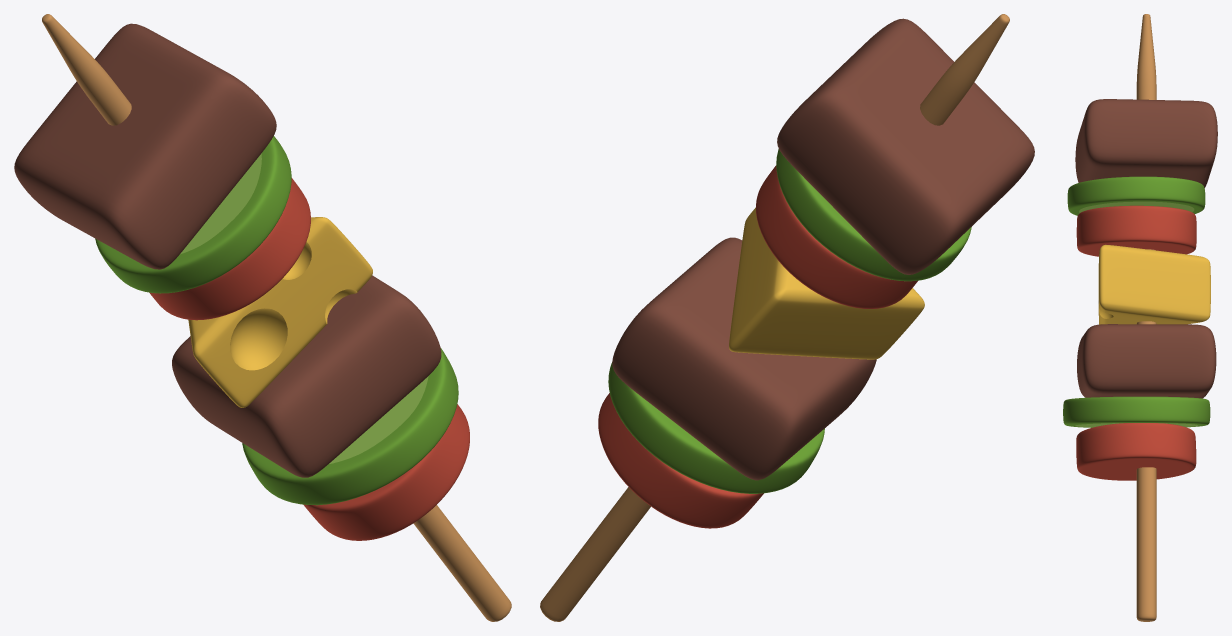
File: bbq.fbx
The picture shows the model from 3 angles, left to right: view 1: azimuth 30°, elevation 25°; view 2: azimuth 150°, elevation 25°; view 3: azimuth 270°, elevation 25°; orthographic projection. The views are drawn at different scales.
Visible parts, largest first — view 1: Plane.050_Plane.084, Plane.051_Plane.084, Circle.068_Circle.222, Circle.069_Circle.220, Circle.066_Circle.220, Circle.070_Circle.223, Vert.005_Vert.012, Circle.067_Circle.221; view 2: Plane.050_Plane.084, Plane.051_Plane.084, Circle.068_Circle.222, Vert.005_Vert.012, Circle.067_Circle.221, Circle.070_Circle.223, Circle.069_Circle.220, Circle.066_Circle.220; view 3: Plane.050_Plane.084, Plane.051_Plane.084, Circle.068_Circle.222, Circle.070_Circle.223, Circle.067_Circle.221, Vert.005_Vert.012, Circle.069_Circle.220, Circle.066_Circle.220.
Boxes of the visible parts, x1,y1,x2,y2 form: Plane.050_Plane.084: [14, 23, 276, 269]; Plane.051_Plane.084: [172, 275, 441, 477]; Circle.068_Circle.222: [188, 217, 372, 407]; Circle.069_Circle.220: [242, 348, 458, 505]; Circle.066_Circle.220: [95, 136, 291, 293]; Circle.070_Circle.223: [303, 404, 469, 540]; Vert.005_Vert.012: [42, 14, 511, 621]; Circle.067_Circle.221: [149, 178, 310, 320]; Plane.050_Plane.084: [777, 18, 1034, 274]; Plane.051_Plane.084: [612, 237, 876, 480]; Circle.068_Circle.222: [729, 207, 924, 359]; Vert.005_Vert.012: [540, 14, 1009, 621]; Circle.067_Circle.221: [756, 165, 917, 308]; Circle.070_Circle.223: [598, 393, 763, 528]; Circle.069_Circle.220: [608, 362, 824, 493]; Circle.066_Circle.220: [776, 148, 971, 281]; Plane.050_Plane.084: [1075, 99, 1217, 187]; Plane.051_Plane.084: [1077, 324, 1216, 398]; Circle.068_Circle.222: [1098, 244, 1210, 324]; Circle.070_Circle.223: [1076, 423, 1196, 480]; Circle.067_Circle.221: [1076, 205, 1196, 256]; Vert.005_Vert.012: [1136, 14, 1156, 621]; Circle.069_Circle.220: [1063, 396, 1210, 427]; Circle.066_Circle.220: [1067, 176, 1205, 215].
Size of the model in its own units: 141 by 207 by 62.14.
